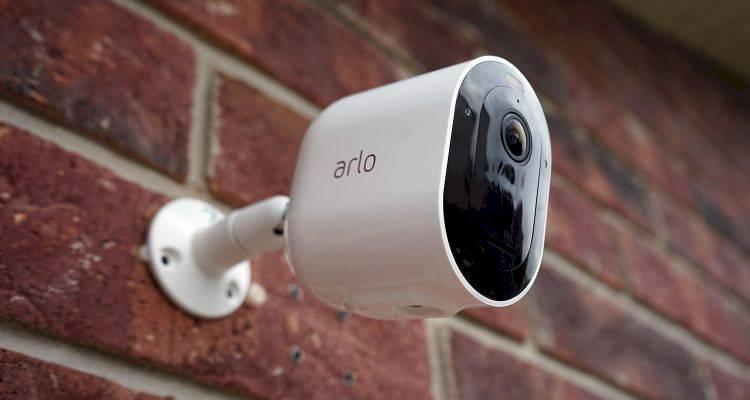CCTV: (258, 39, 584, 329)
